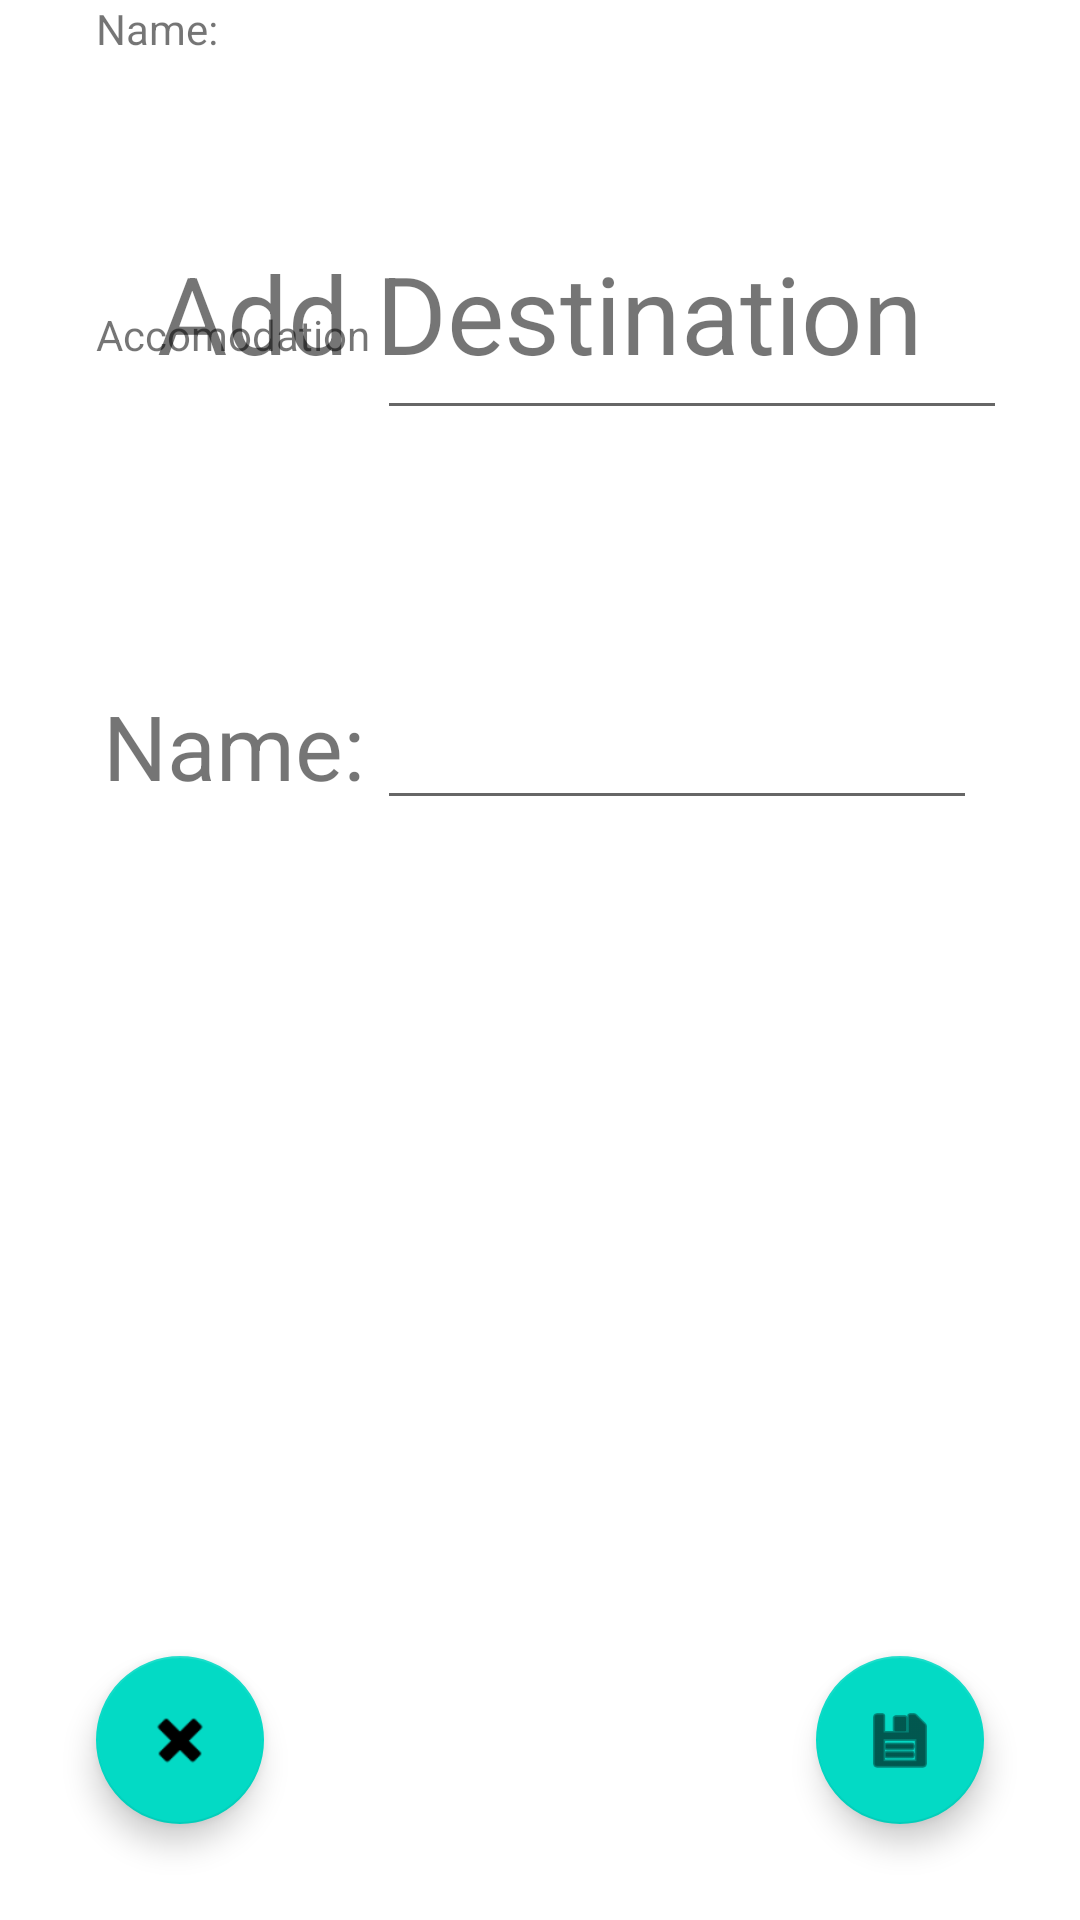

Named icons in this screenshot (1080w x 1920h) and their centers, (x=x, y=y):
delete: (x=180, y=1740)
save: (x=900, y=1740)
